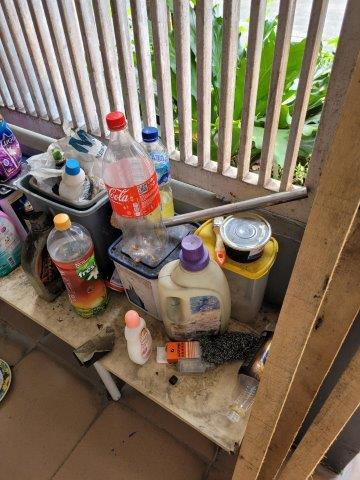botolplastik: (107, 113, 168, 258), (47, 214, 108, 323), (232, 322, 285, 424), (138, 126, 175, 221)
